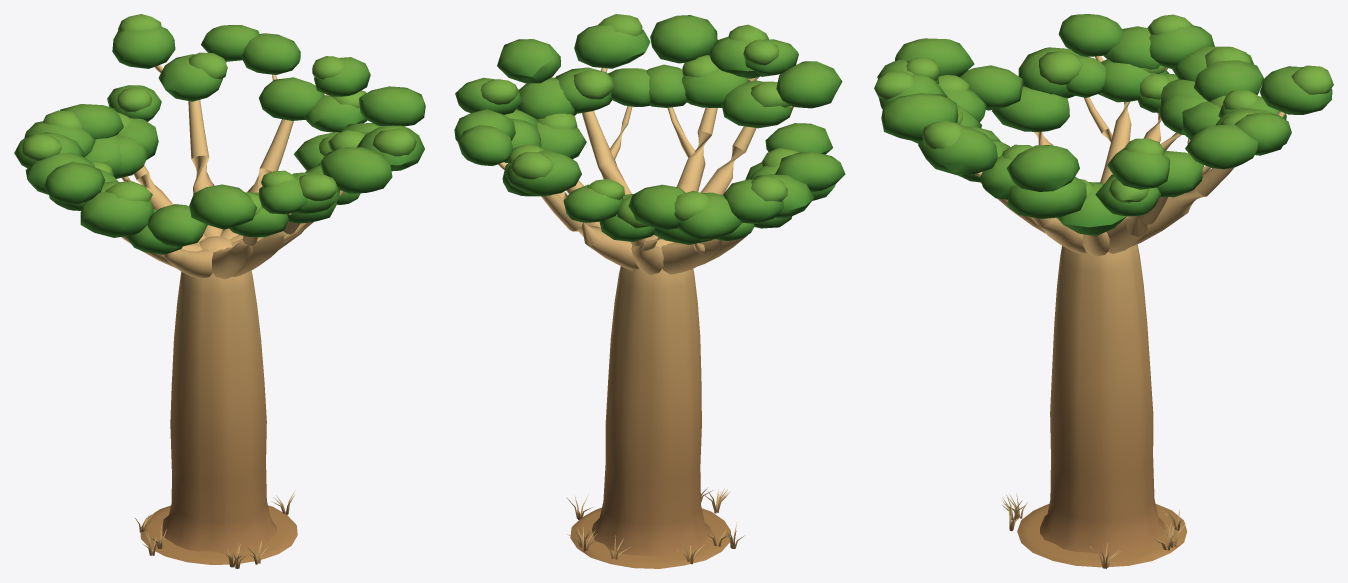
The model's file is BaobabGiant.fbx.
3 views of the same model, side by side, from view 1: azimuth 30°, elevation 25°; view 2: azimuth 150°, elevation 25°; view 3: azimuth 270°, elevation 25° (orthographic). The views are drawn at different scales.
Parts seen in each view (by area): view 1: BaobabGiant; view 2: BaobabGiant; view 3: BaobabGiant.
Part boxes in pixels (box(x1,y1,x2,y2)): BaobabGiant: box(14, 14, 425, 568); BaobabGiant: box(454, 14, 845, 568); BaobabGiant: box(874, 14, 1333, 568).
Size of the model in its own units: 12.81 by 15.29 by 13.47.
2 materials, 2 textured.
